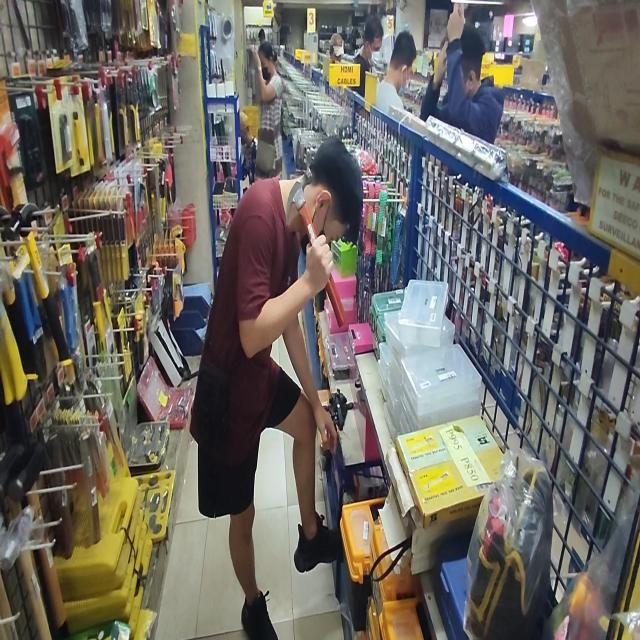hammer: (285, 165, 345, 326)
